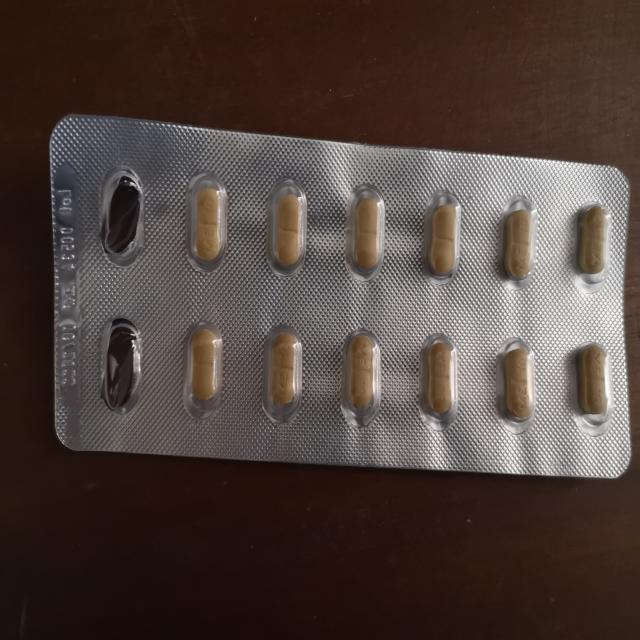Empty: (90, 160, 156, 272), (93, 312, 149, 417)
Pill: (179, 165, 235, 273), (255, 320, 311, 428), (260, 174, 318, 275), (490, 332, 541, 440), (413, 326, 465, 431), (336, 325, 386, 428), (177, 317, 225, 424), (344, 180, 394, 280), (494, 192, 543, 290), (418, 187, 467, 285), (569, 338, 616, 432), (570, 197, 614, 286)
